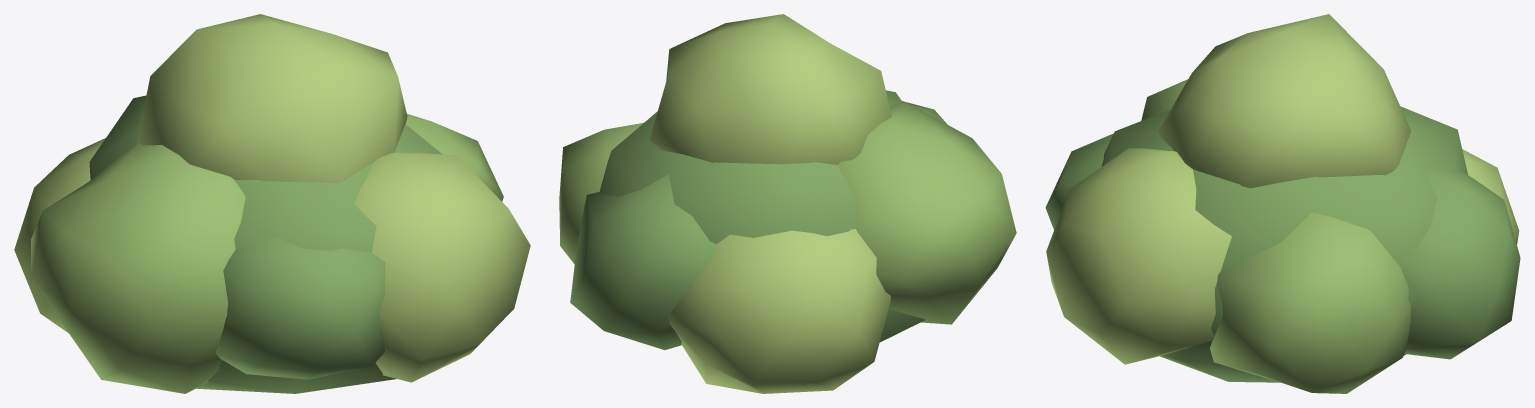
File: Bush.gltf
The picture shows the model from 3 angles, left to right: view 1: azimuth 30°, elevation 25°; view 2: azimuth 150°, elevation 25°; view 3: azimuth 270°, elevation 25°; orthographic projection. The views are drawn at different scales.
Visible parts, largest first — view 1: Bush; view 2: Bush; view 3: Bush.
Boxes of the visible parts, <box> form: Bush: <box>14,14,530,393</box>; Bush: <box>559,14,1016,393</box>; Bush: <box>1045,14,1520,393</box>.
Bounding box in the file's own units: 1.58 × 1.19 × 1.48.
